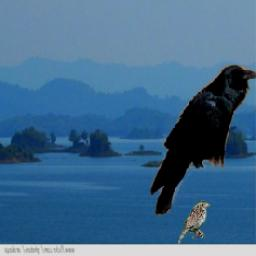Crow: (150, 65, 256, 216)
Sparrow: (178, 200, 211, 244)
